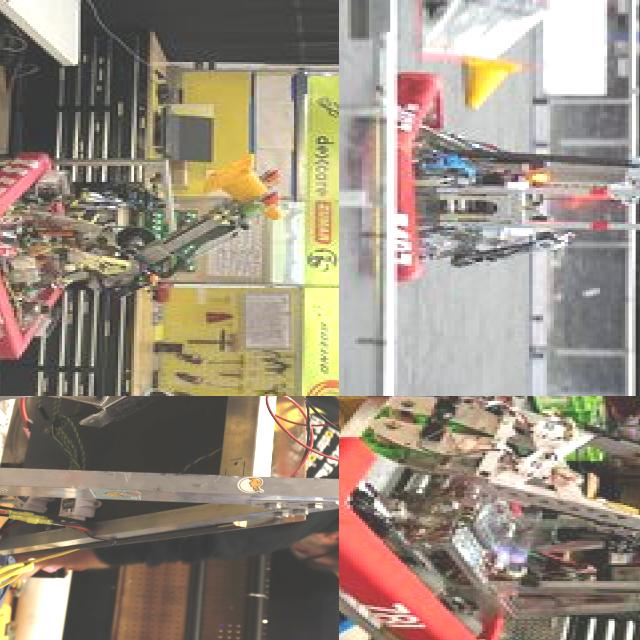FRC-Robots: (0, 113, 320, 393), (365, 0, 640, 305), (0, 396, 339, 640), (339, 396, 640, 640)
